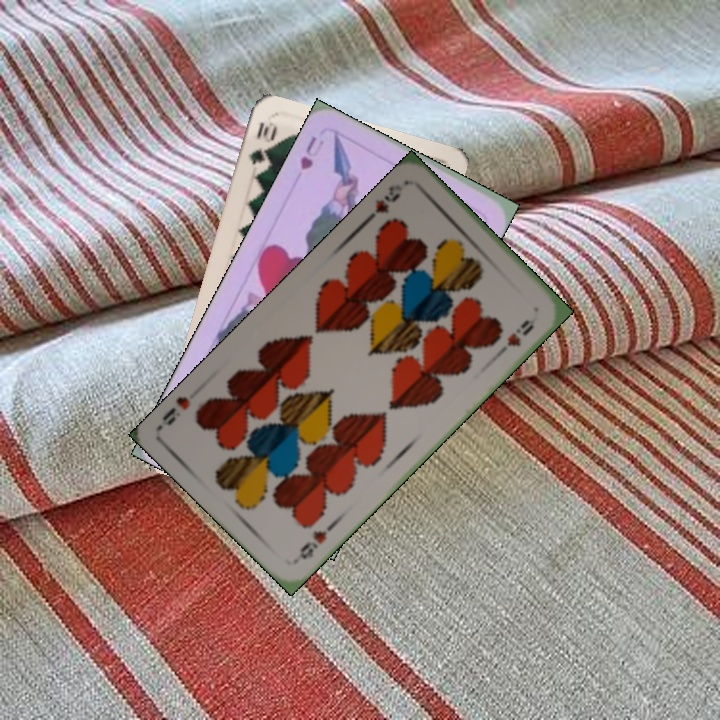G10: (243, 118, 279, 168)
H9: (361, 180, 405, 225), (295, 526, 330, 562)
HU: (296, 132, 327, 173)
